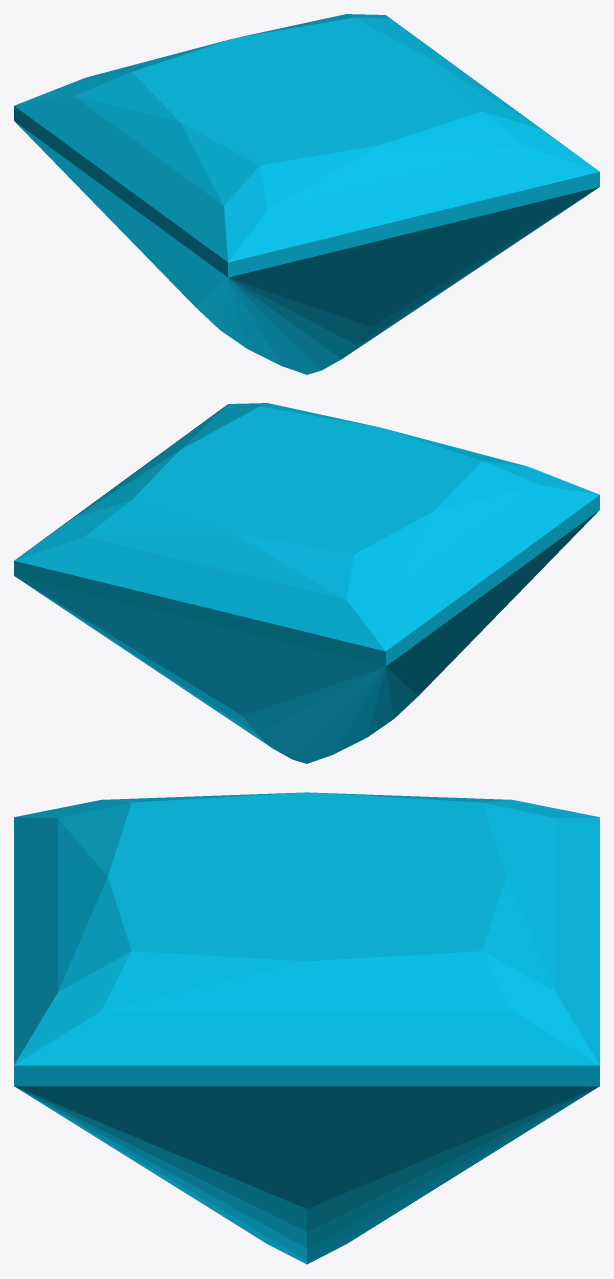
Rendered from Head_No Halo_Princess_0.50ct_Diamond.glb.
3 views of the same model, one above another, from view 1: azimuth 30°, elevation 25°; view 2: azimuth 150°, elevation 25°; view 3: azimuth 270°, elevation 25° (orthographic). The views are drawn at different scales.
Bounding box in the file's own units: 0.00448 × 0.00327 × 0.00447.
